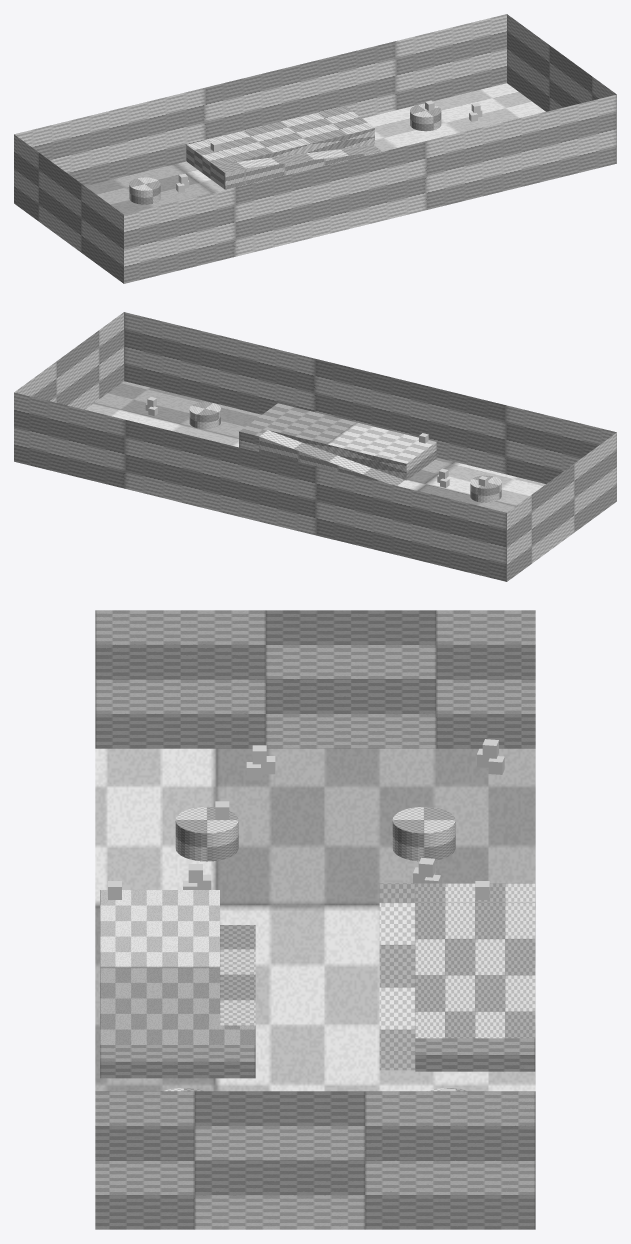
The model's file is arena.glb.
The picture shows the model from 3 angles, top to bottom: view 1: azimuth 30°, elevation 25°; view 2: azimuth 150°, elevation 25°; view 3: azimuth 270°, elevation 25°; orthographic projection. The views are drawn at different scales.
Parts seen in each view (by area): view 1: Cube.033, Cube.035, Cube.002, Cube.008, Cube.034, Cube.036, Cylinder.001, Cylinder.003; view 2: Cube.035, Cube.033, Cube.001, Cube.008, Cube.034, Cube.036, Cylinder.002, Cylinder; view 3: Cube.008, Cube.036, Cube.034, Cube.002, Cube.001, Cylinder.001, Cylinder.
Part boxes in pixels (x1,y1,x2,y2): Cube.033: [124, 94, 616, 283]; Cube.035: [14, 14, 506, 185]; Cube.002: [186, 106, 381, 189]; Cube.008: [85, 83, 545, 214]; Cube.034: [14, 134, 123, 283]; Cube.036: [507, 14, 616, 111]; Cylinder.001: [129, 177, 160, 204]; Cylinder.003: [410, 104, 441, 131]; Cube.035: [14, 392, 506, 581]; Cube.033: [124, 312, 616, 483]; Cube.001: [239, 403, 436, 485]; Cube.008: [85, 381, 545, 512]; Cube.034: [507, 432, 616, 581]; Cube.036: [14, 312, 123, 409]; Cylinder.002: [189, 402, 220, 429]; Cylinder: [470, 475, 501, 502]; Cube.008: [95, 748, 535, 1091]; Cube.036: [95, 1091, 535, 1229]; Cube.034: [95, 610, 535, 748]; Cube.002: [379, 883, 535, 1071]; Cube.001: [100, 890, 255, 1078]; Cylinder.001: [392, 807, 455, 861]; Cylinder: [175, 807, 238, 861].
Size of the model in its own units: 17.76 by 2.39 by 6.87.
2 materials, 2 textured.
